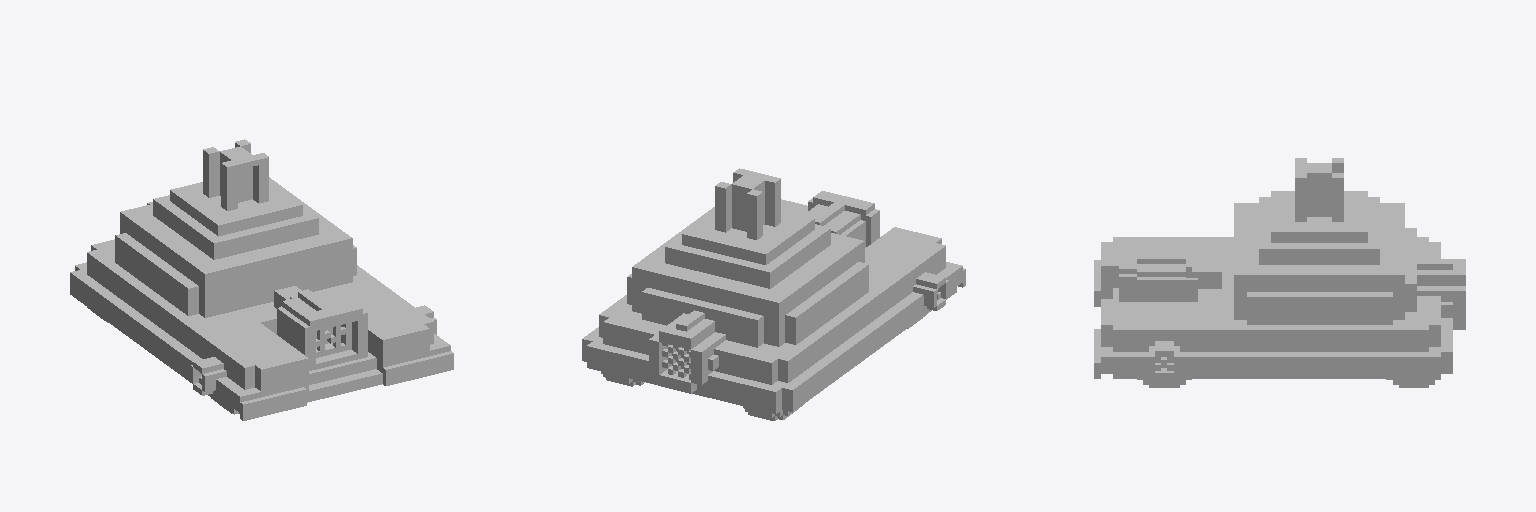
File: rawbody.obj
The picture shows the model from 3 angles: view 1: azimuth 30°, elevation 25°; view 2: azimuth 150°, elevation 25°; view 3: azimuth 270°, elevation 25°; orthographic projection.
Parts seen in each view (by area): view 1: object 1; view 2: object 1; view 3: object 1.
Boxes of the visible parts, box(x1,y1,x2,y2) form: object 1: box(70, 139, 453, 420); object 1: box(582, 168, 965, 420); object 1: box(1094, 158, 1465, 387).
Bounding box in the file's own units: 4.4 × 3.2 × 6.1.